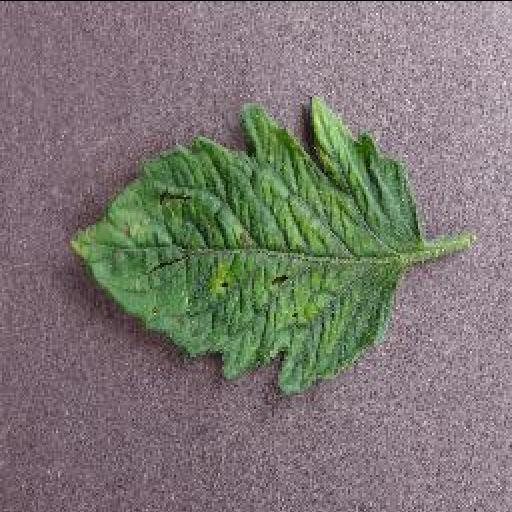disease_tomato: (66, 93, 422, 395)
